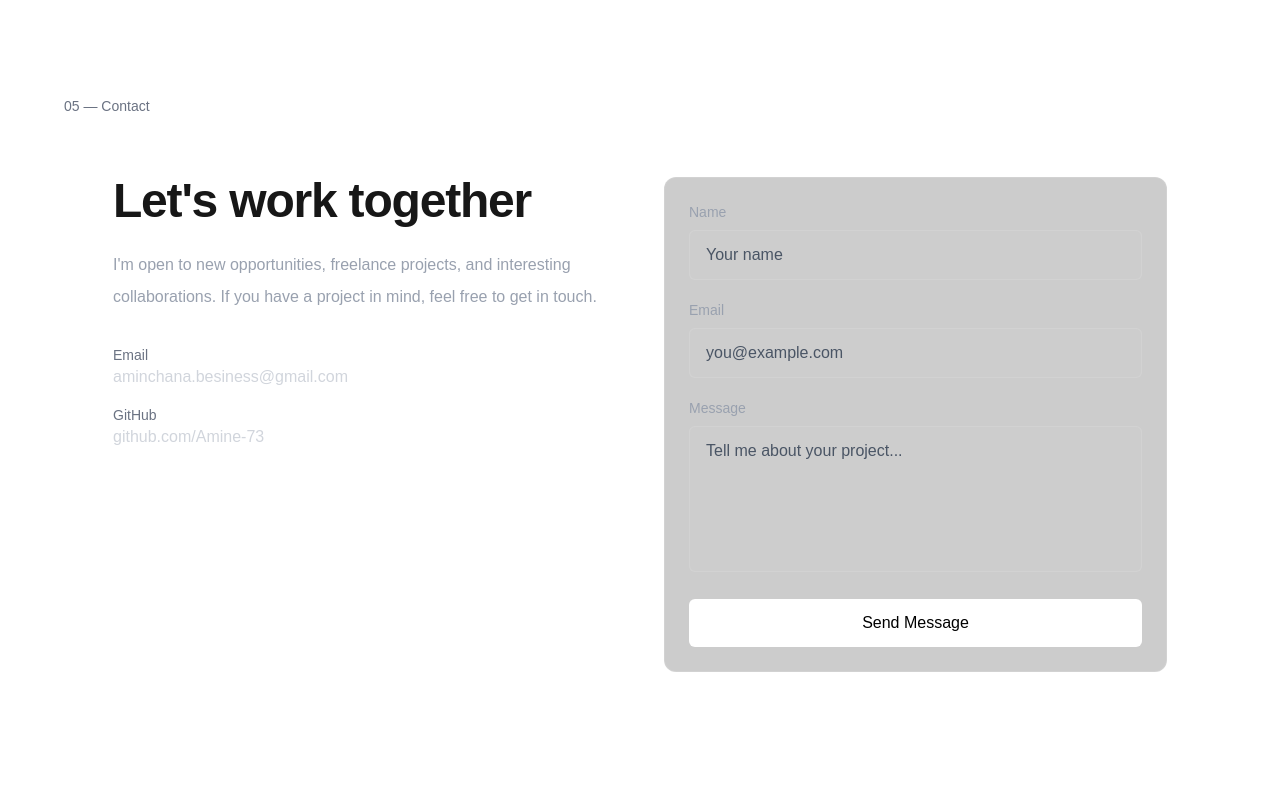
Test: Contact form › shows an error message when the API returns an error
The image size is (1280, 800).
Type "Test User" into the field labelled "Name". click: [916, 255]
box: [689,230,1142,280]
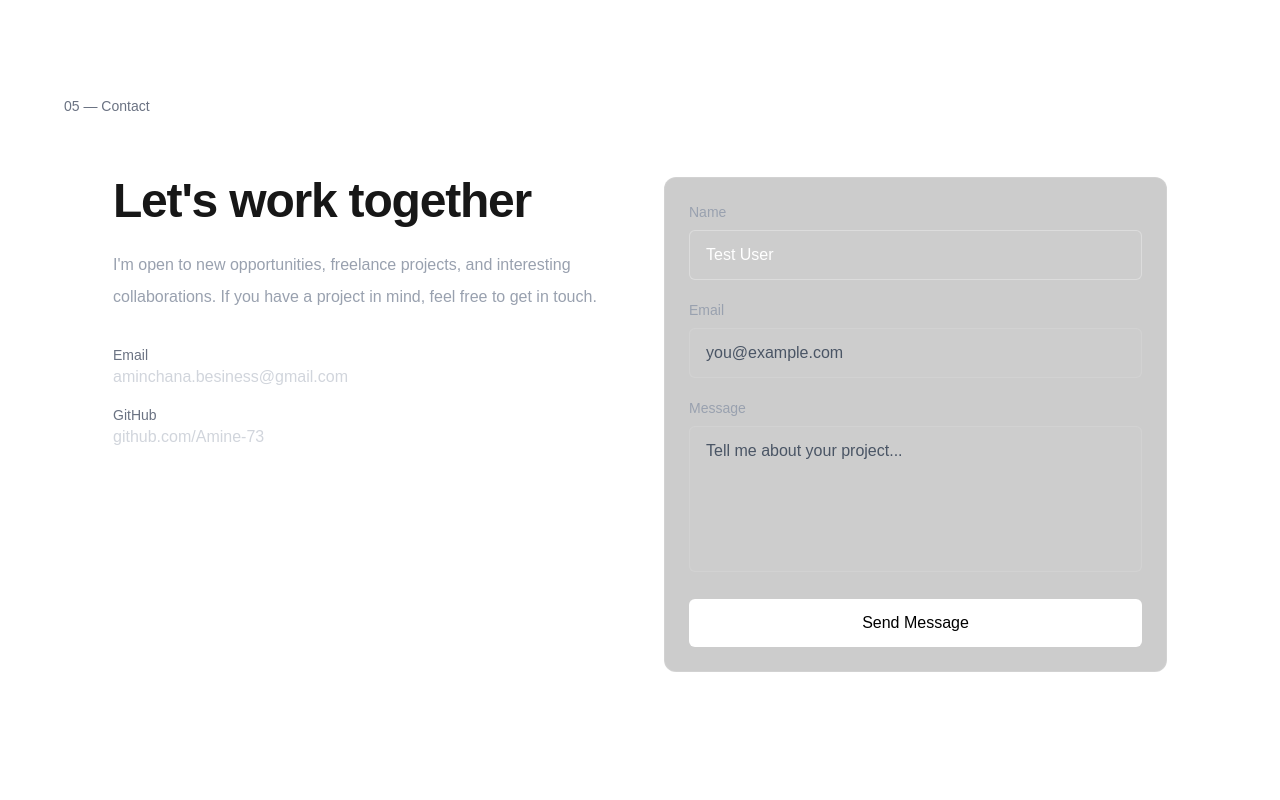
Type "test@example.com" into the field labelled "Email". click: [916, 353]
box: [689,328,1142,378]
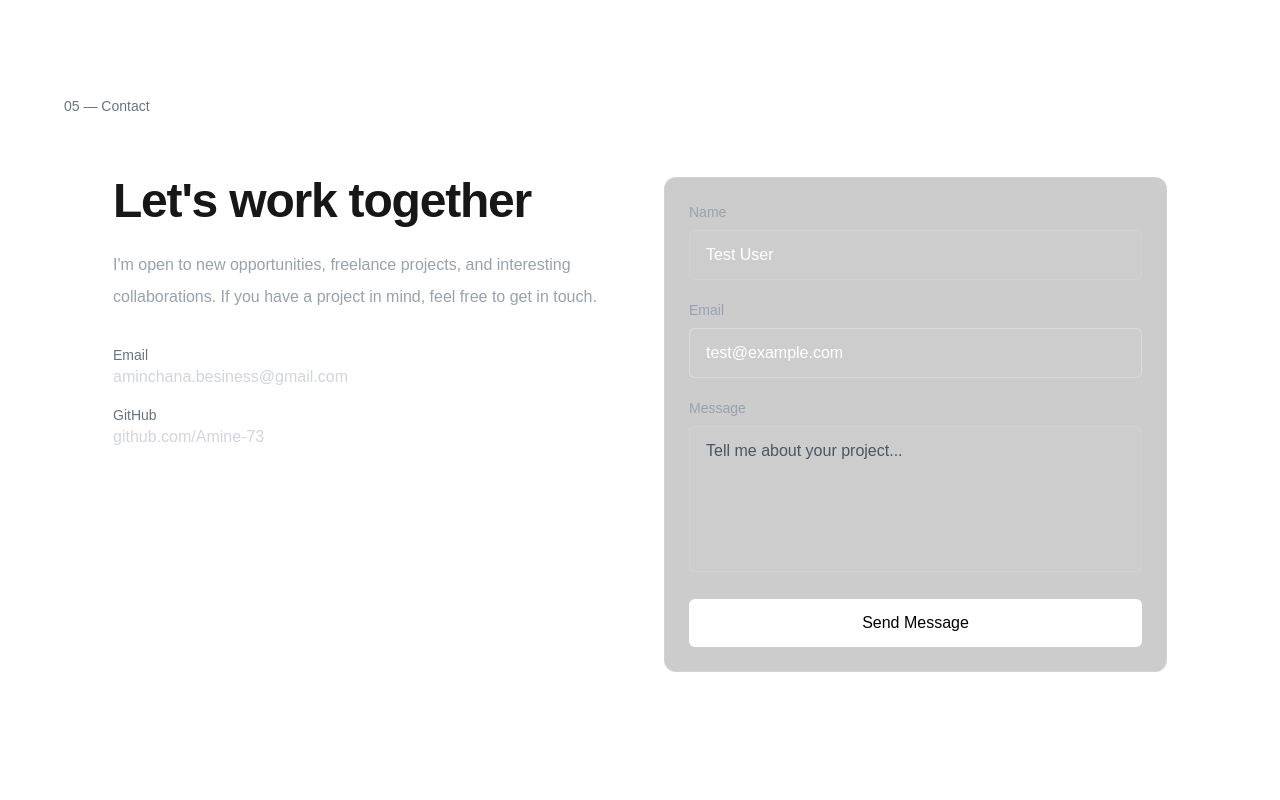
Type "Hello there" into the text box labelled "Message". click: [916, 499]
box: [689,426,1142,572]
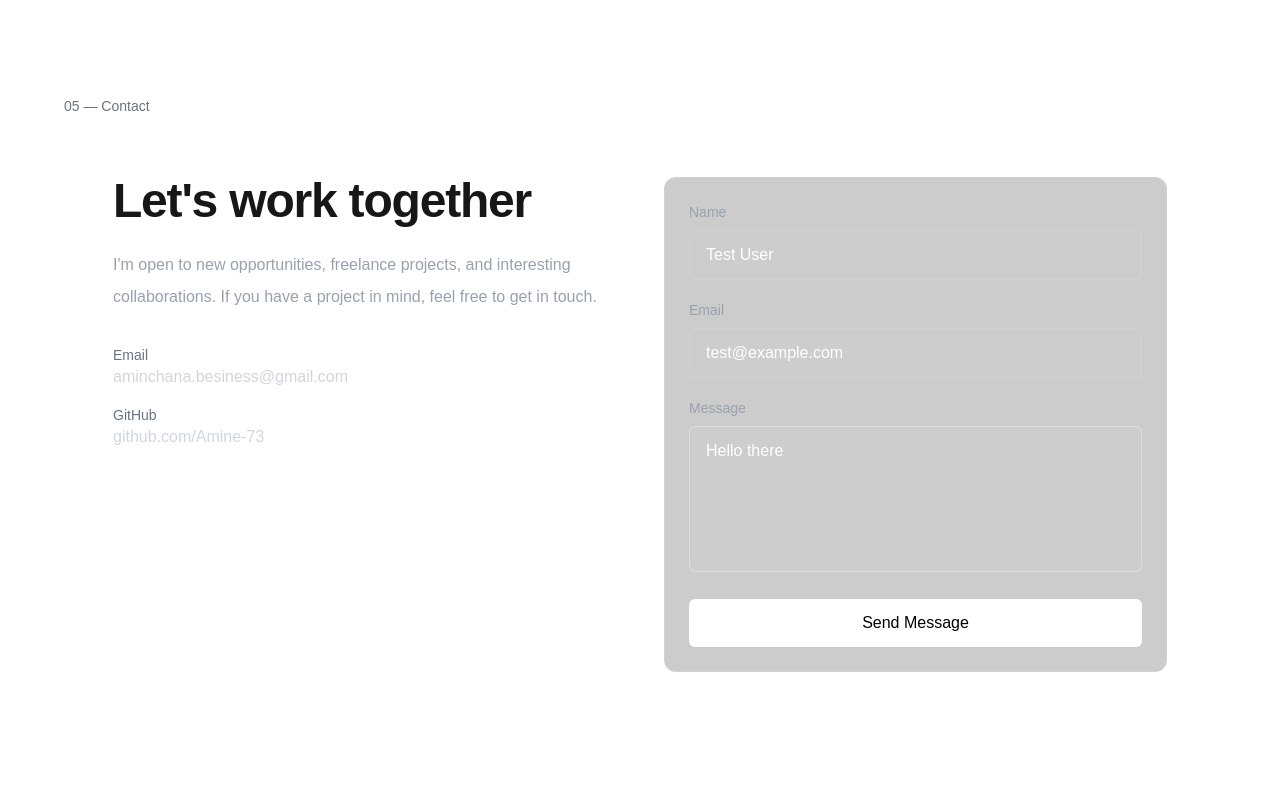
Click the button "Send Message". click: [916, 623]
box: [689,599,1142,647]
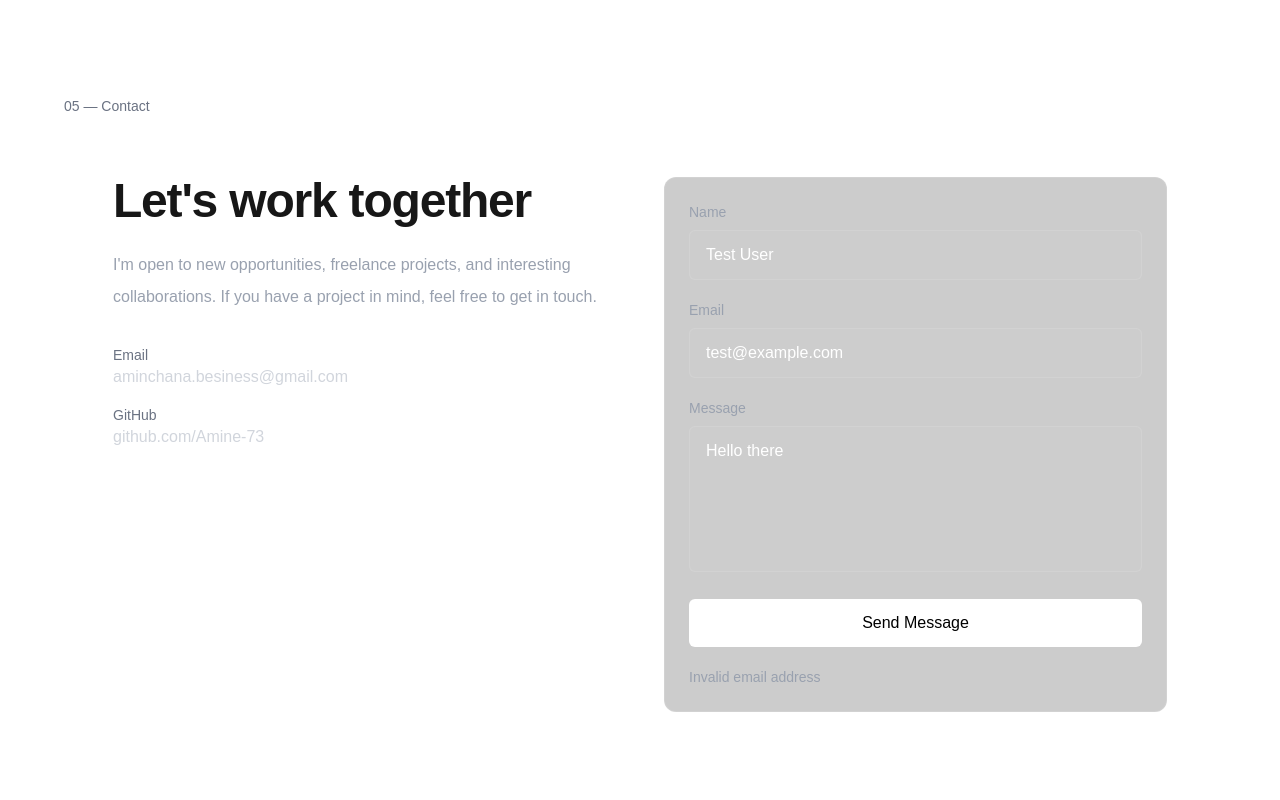
Now the text "Invalid email address" is shown, box [689,669,820,685]
